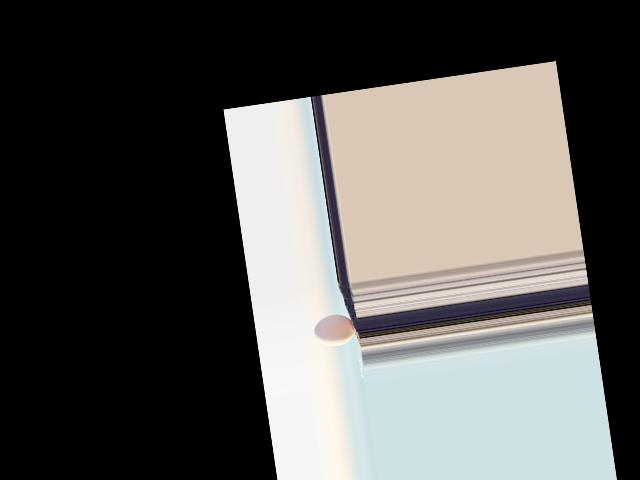egg: (312, 312, 356, 349)
